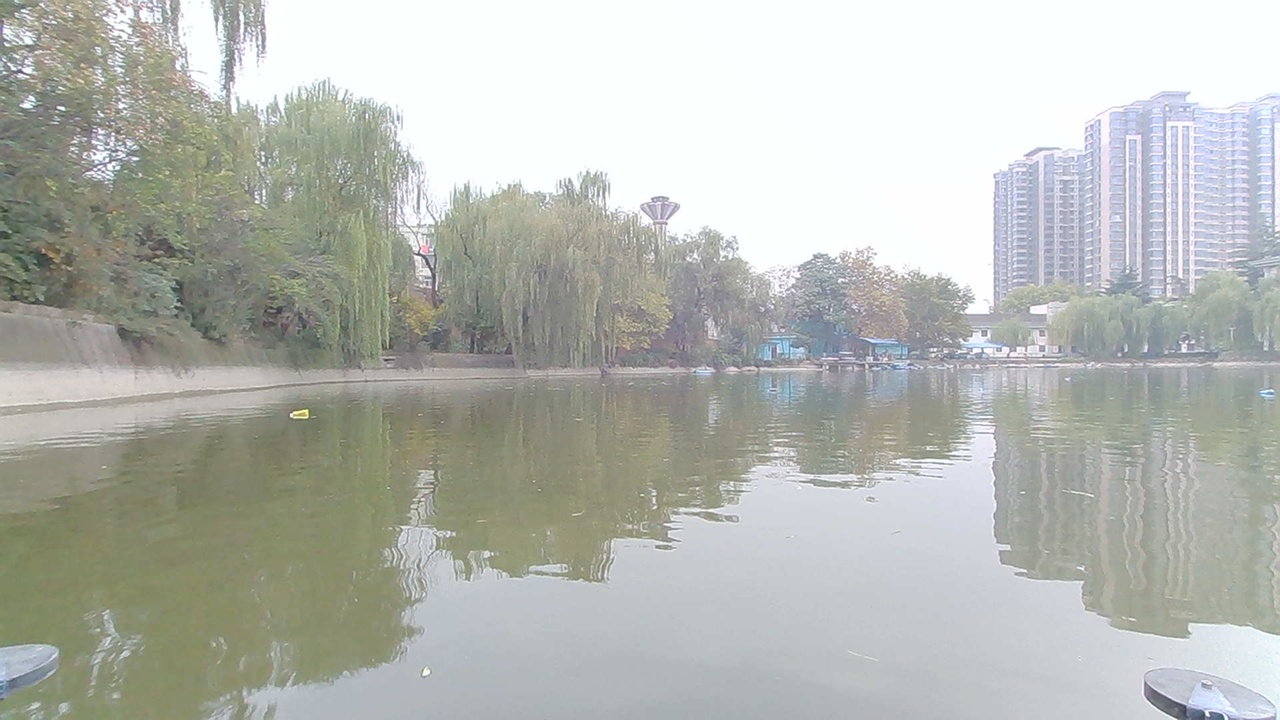bottle: (285, 405, 319, 428), (1243, 382, 1274, 405), (760, 386, 789, 401)
